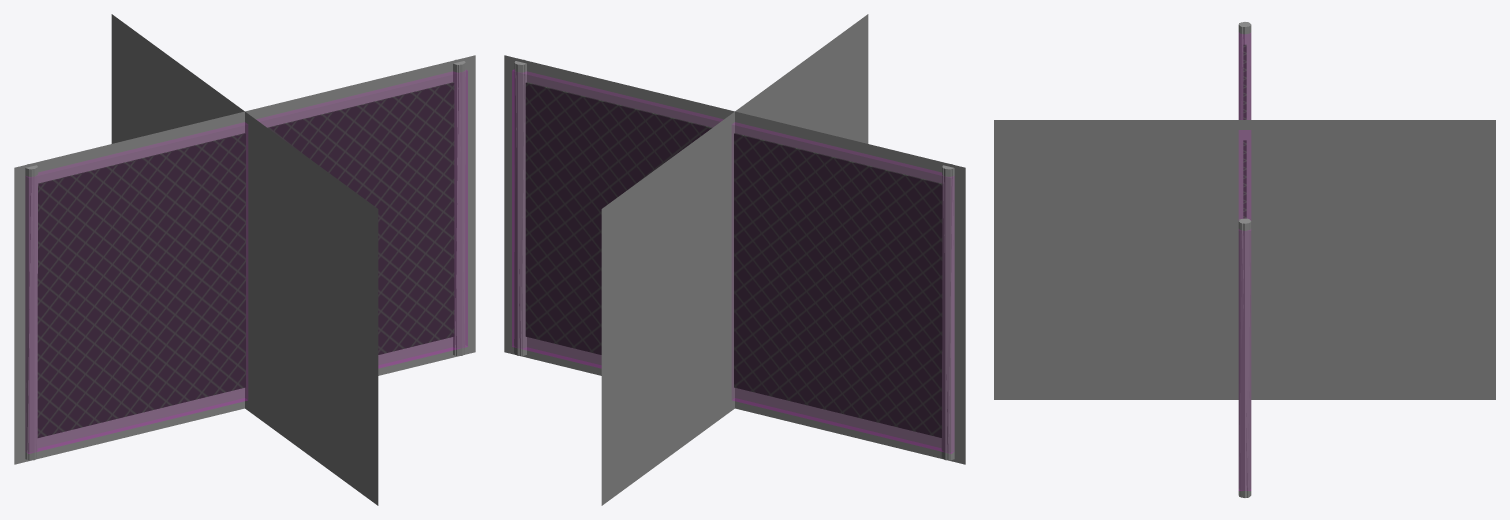
Rendered from chainlink_green_3m.dae.
3 views of the same model, side by side, from view 1: azimuth 30°, elevation 25°; view 2: azimuth 150°, elevation 25°; view 3: azimuth 270°, elevation 25° (orthographic). The views are drawn at different scales.
Parts seen in each view (by area): view 1: chainlink_green_3m_a800, Colmesh_panel-1, chainlink_green_3m_a50, chainlink_green_3m_a200; view 2: chainlink_green_3m_a800, Colmesh_panel-1, chainlink_green_3m_a50, chainlink_green_3m_a200; view 3: chainlink_green_3m_a50, chainlink_green_3m_a800, Colmesh_panel-1, chainlink_green_3m_a200.
Part boxes in pixels (x1,y1,x2,y2): chainlink_green_3m_a800: (25,59,465,460); Colmesh_panel-1: (26,70,467,453); chainlink_green_3m_a50: (14,14,475,505); chainlink_green_3m_a200: (26,61,465,460); chainlink_green_3m_a800: (514,59,954,460); Colmesh_panel-1: (512,69,953,453); chainlink_green_3m_a50: (504,14,965,505); chainlink_green_3m_a200: (514,63,953,460); chainlink_green_3m_a50: (994,120,1495,399); chainlink_green_3m_a800: (1238,22,1251,497); Colmesh_panel-1: (1239,33,1250,490); chainlink_green_3m_a200: (1239,22,1250,497).
Size of the model in its own units: 3.15 by 3.15 by 1.94.
3 materials, 1 textured.
